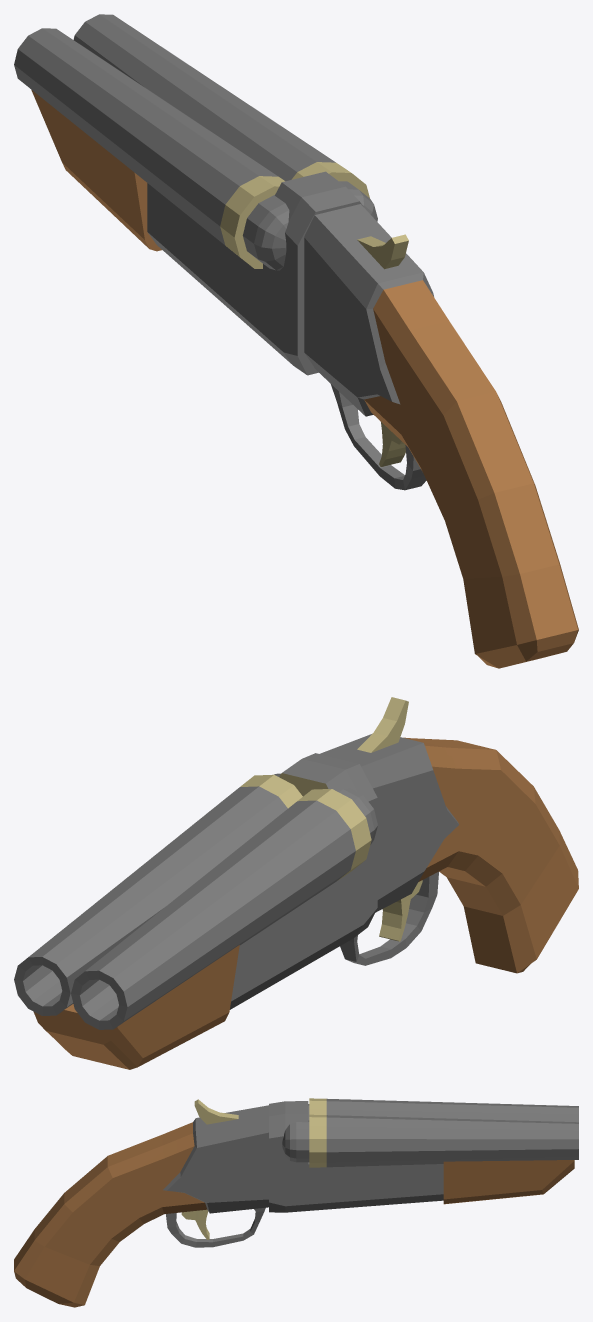
The model's file is Hunter-Shotgun-Mini.fbx.
The picture shows the model from 3 angles, top to bottom: view 1: azimuth 30°, elevation 25°; view 2: azimuth 150°, elevation 25°; view 3: azimuth 270°, elevation 25°; orthographic projection. The views are drawn at different scales.
Visible parts, largest first — view 1: Shotgun_C.002; view 2: Shotgun_C.002; view 3: Shotgun_C.002.
Part boxes in pixels (x1,y1,x2,y2): Shotgun_C.002: [14, 14, 578, 668]; Shotgun_C.002: [14, 697, 578, 1069]; Shotgun_C.002: [14, 1098, 578, 1307].
Bounding box in the file's own units: 89.07 × 215 × 548.
